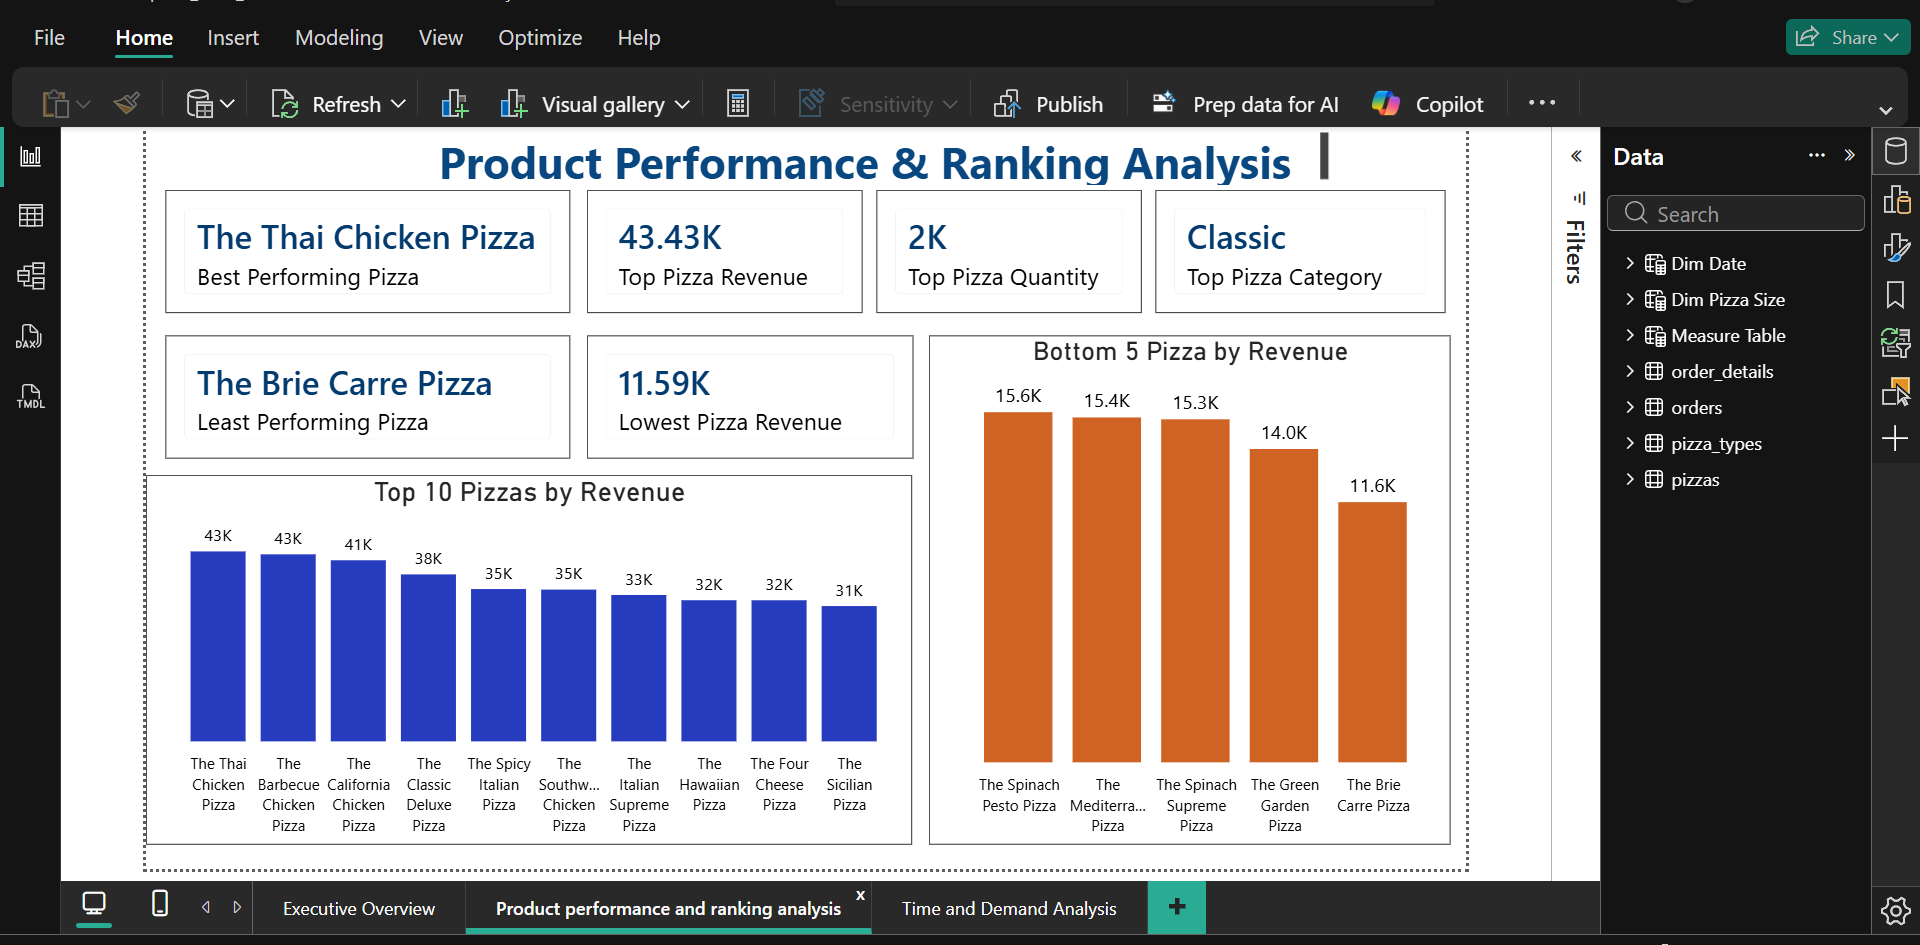

Layout of this report page (visuals, bound fields, positions):
{"tool":"powerbi","page":{"name":"Product performance and ranking analysis","canvas":[1280,720],"ordinal":1},"visuals":[{"type":"cardVisual","title":"Top Pizza by Name","fields":{"Data":["Measure Table.Top Pizza Name"]},"box":[18.2,60.8,392.9,119.5],"z":0},{"type":"cardVisual","title":"Top Pizza by Name","fields":{"Data":["Measure Table.Top Pizza Revenue"]},"box":[427.3,60.8,267.3,119.5],"z":1000},{"type":"cardVisual","title":"Top Pizza by Name","fields":{"Data":["Measure Table.Top Pizza Quantity"]},"box":[708.9,60.8,257.2,119.5],"z":2000},{"type":"cardVisual","title":"Top Pizza by Name","fields":{"Data":["Measure Table.Lowest  Revenue Pizza Name"]},"box":[18.2,202.5,392.9,119.5],"z":3000},{"type":"cardVisual","title":"Top Pizza by Name","fields":{"Data":["Measure Table.Lowest Pizza Revenue"]},"box":[427.4,202.1,316.4,119.3],"z":4000},{"type":"cardVisual","title":"Top Pizza by Name","fields":{"Data":["Measure Table.Best Category Pizza"]},"box":[980.3,60.8,281.5,119.5],"z":5000},{"type":"clusteredColumnChart","title":"Top 10 Pizzas by Revenue","fields":{"Category":["pizza_types.name"],"Y":["Measure Table.Total Revenue"]},"box":[0,338.2,743.3,358.5],"z":6000},{"type":"clusteredColumnChart","title":"Bottom 5 Pizza by Revenue","fields":{"Category":["pizza_types.name"],"Y":["Measure Table.Total Revenue"]},"box":[759.5,202.5,506.3,494.2],"z":7000},{"type":"textbox","box":[279.5,0,872.9,60.8],"z":8000}]}

Visuals, with their boxes on the page's 1280x720 design canvas (x1, y1, x2, y2). These are canvas units, not pixel positions in the 1920x945 screenshot, which may show the page scaled, cropped or inside an application window:
"Top Pizza by Name" cardVisual: [18, 61, 411, 180]
"Top Pizza by Name" cardVisual: [427, 61, 695, 180]
"Top Pizza by Name" cardVisual: [709, 61, 966, 180]
"Top Pizza by Name" cardVisual: [18, 202, 411, 322]
"Top Pizza by Name" cardVisual: [427, 202, 744, 321]
"Top Pizza by Name" cardVisual: [980, 61, 1262, 180]
"Top 10 Pizzas by Revenue" clusteredColumnChart: [0, 338, 743, 697]
"Bottom 5 Pizza by Revenue" clusteredColumnChart: [760, 202, 1266, 697]
textbox: [280, 0, 1152, 61]
